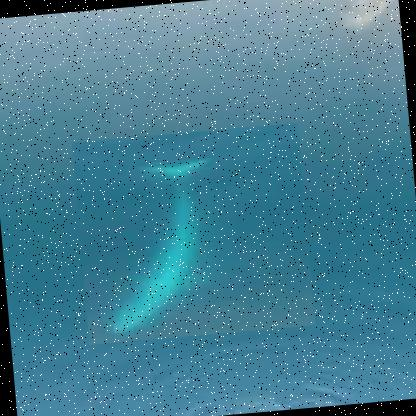blue_whale: (70, 121, 315, 344)
